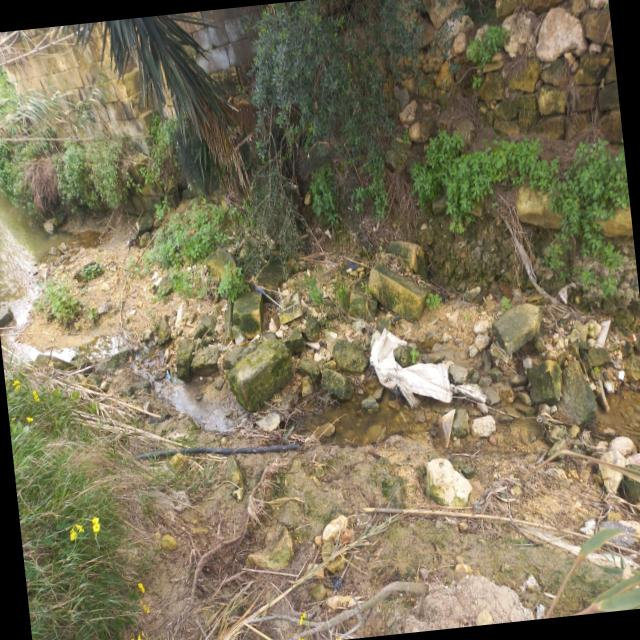Other plastic: (369, 327, 485, 408), (134, 444, 299, 460), (595, 318, 612, 348), (326, 573, 343, 592), (166, 368, 181, 384), (251, 284, 266, 296), (346, 262, 361, 269), (619, 370, 625, 381)
